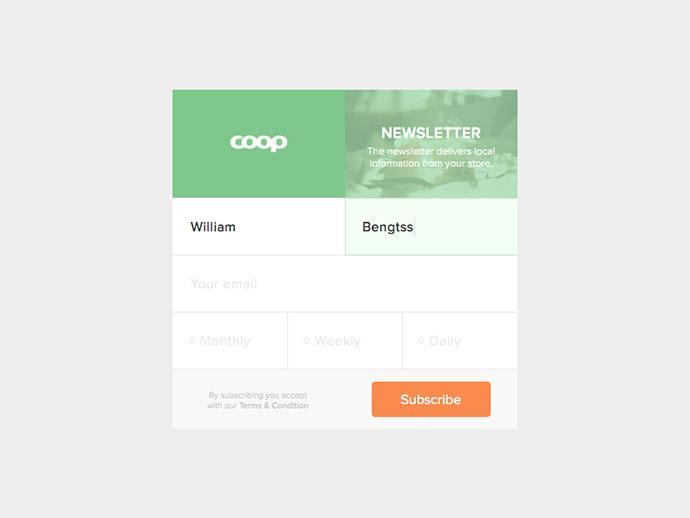button: (372, 382, 491, 418)
input: (176, 259, 516, 314), (405, 316, 517, 368), (176, 317, 287, 369), (293, 318, 403, 367)
label: (364, 221, 415, 235), (190, 222, 236, 234)
